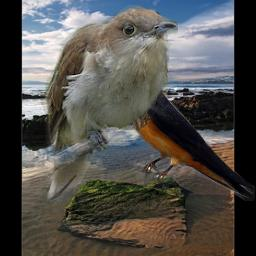Cuckoo: (41, 5, 178, 202)
Swallow: (102, 60, 255, 201)
